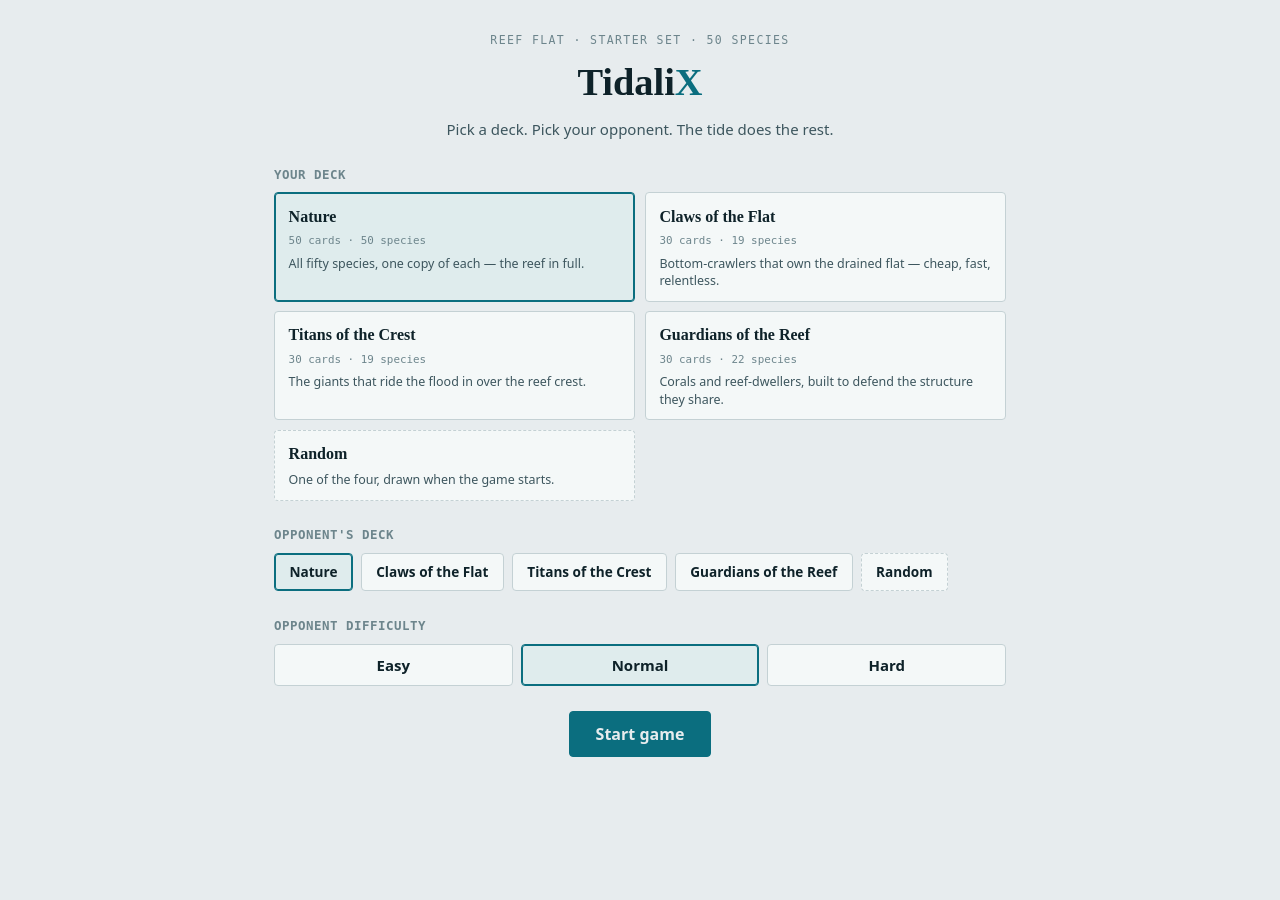
Test case: client › shows the opponent difficulty read-only, not as a mid-game control
(page scrolled)
What coordinates should you click on to do the following:
click the button with class "setup__start"
I would click on:
 (640, 734)
Its box is [569,711,711,757].
(page scrolled)
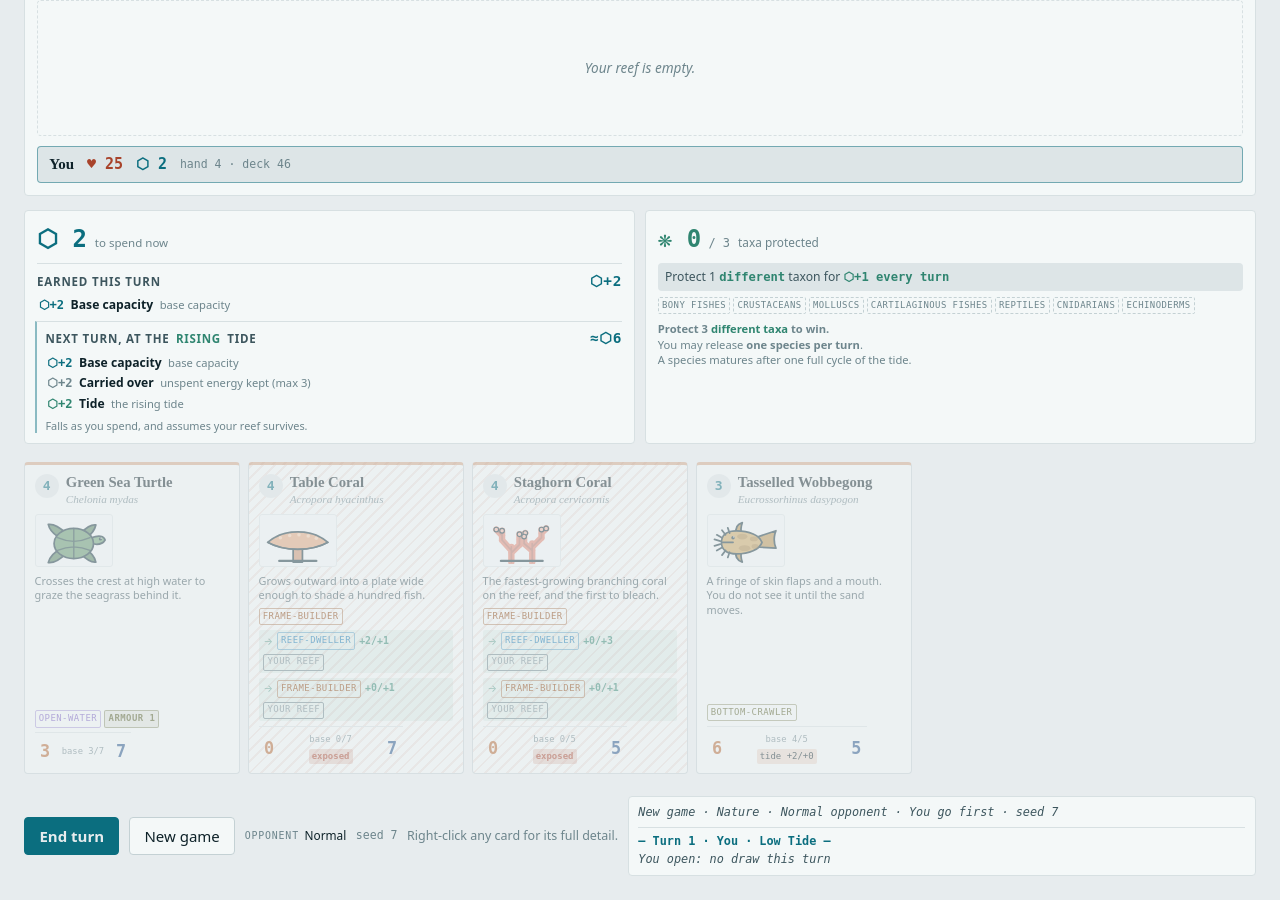
Expected: the element with class "bar__difficulty" shows "Normal", [304,827,346,843]
